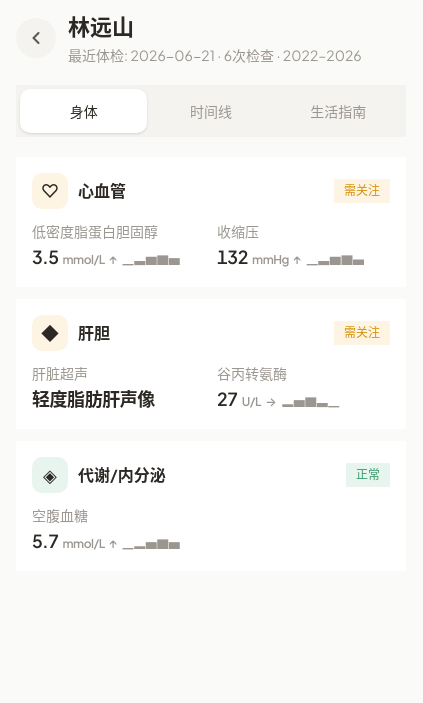
HomePage › 切换到'时间线' Tab
Click the button "时间线": {"x": 211, "y": 111} [147,89,275,133]
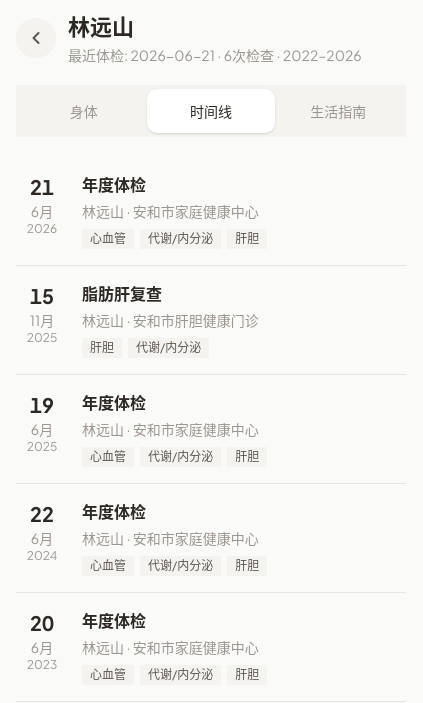
Check: the text "脂肪肝复查" is shown, box [82,283,162,304]
